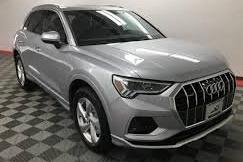SUV: (14, 7, 236, 152)
